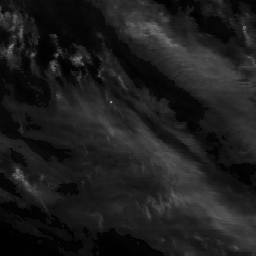Target: (109, 100, 114, 105)
